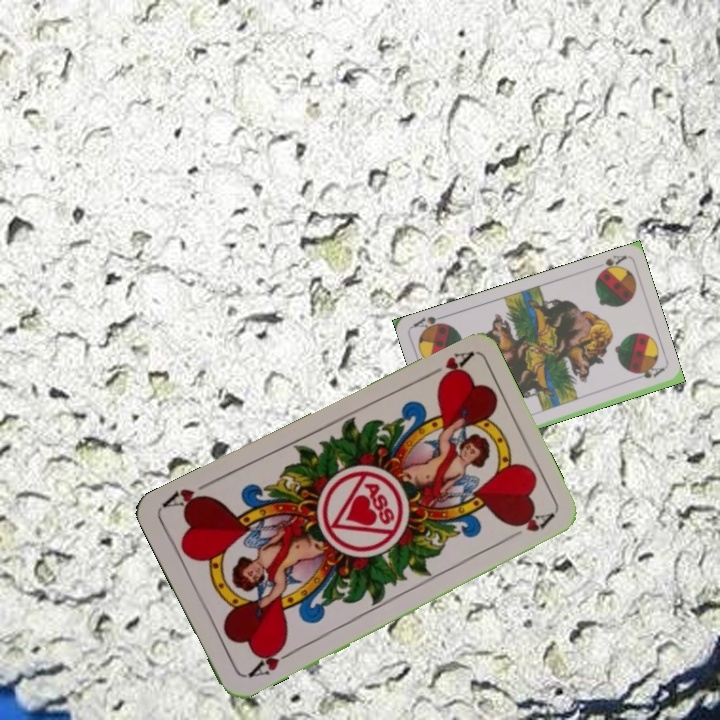HA: (418, 347, 474, 387), (244, 640, 297, 681)
SA: (593, 251, 629, 278)
